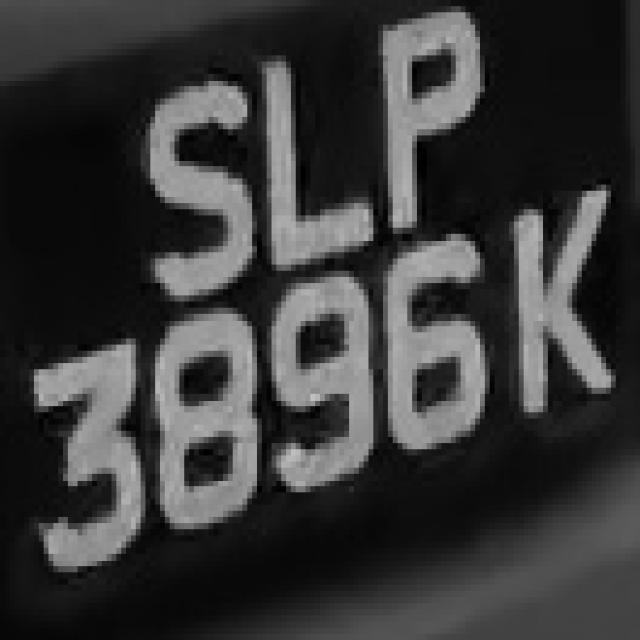3: (15, 338, 150, 584)
6: (373, 222, 490, 462)
8: (140, 277, 262, 541)
9: (247, 258, 398, 492)
K: (504, 185, 630, 437)
L: (242, 43, 383, 277)
P: (374, 6, 494, 240)
S: (126, 55, 257, 308)
